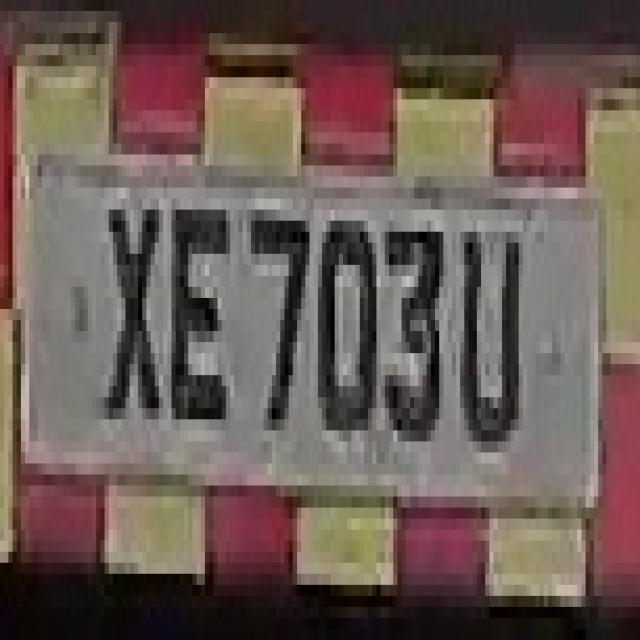0: (301, 188, 389, 442)
3: (372, 188, 452, 452)
7: (238, 144, 310, 452)
E: (167, 165, 230, 452)
U: (452, 198, 535, 452)
X: (101, 165, 163, 452)
